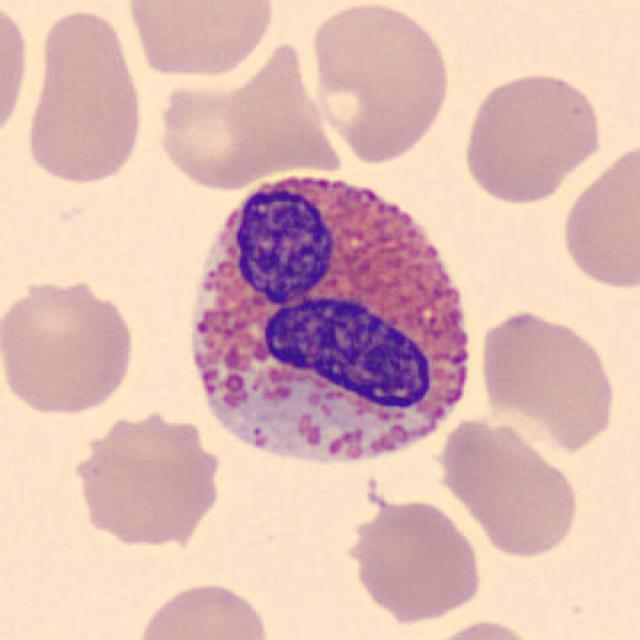Eosinophil: (171, 148, 487, 488)
RBC: (150, 44, 340, 194), (305, 0, 453, 167), (62, 404, 230, 548), (22, 3, 150, 190), (432, 412, 583, 562), (475, 305, 622, 455), (0, 271, 140, 419), (336, 492, 487, 628), (458, 67, 604, 206), (556, 138, 638, 294), (121, 0, 279, 79), (131, 576, 275, 640), (0, 0, 32, 148), (416, 615, 544, 640)
